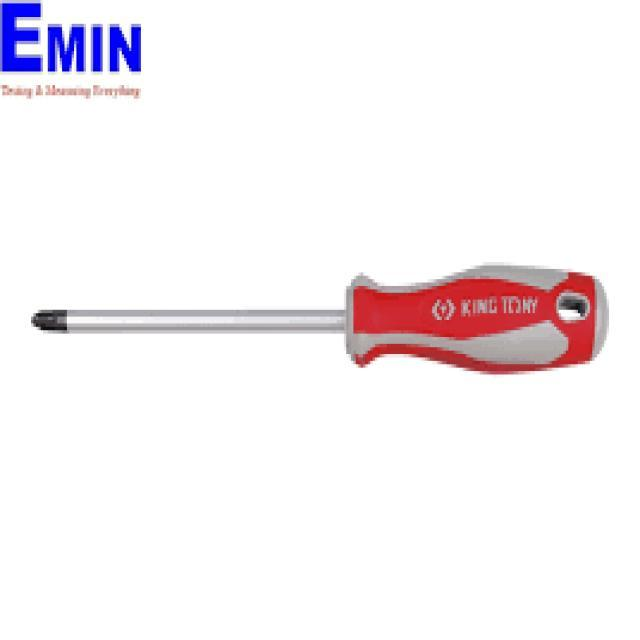screwdriver: (26, 264, 612, 376)
